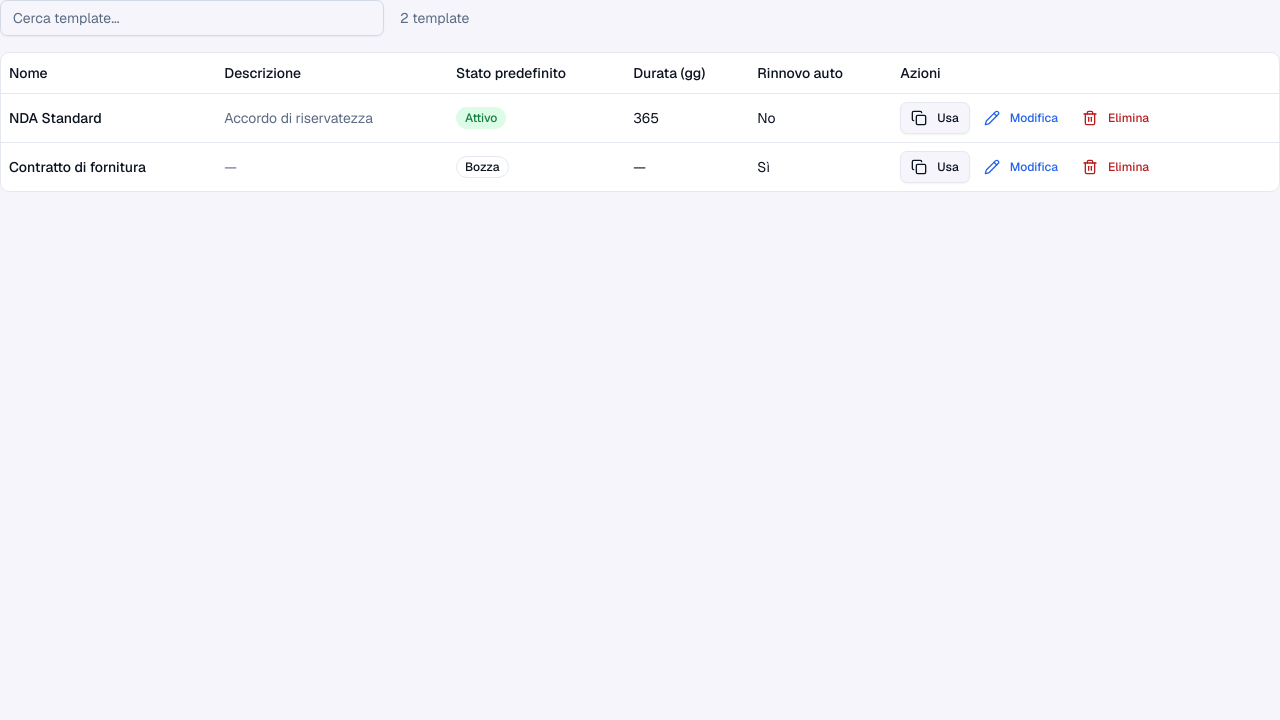
Test: ContractTemplateTable › opens delete confirmation dialog when Elimina is clicked
Click the button "Elimina" in the row of "NDA Standard".
click(1116, 118)  # box [1072, 102, 1159, 134]
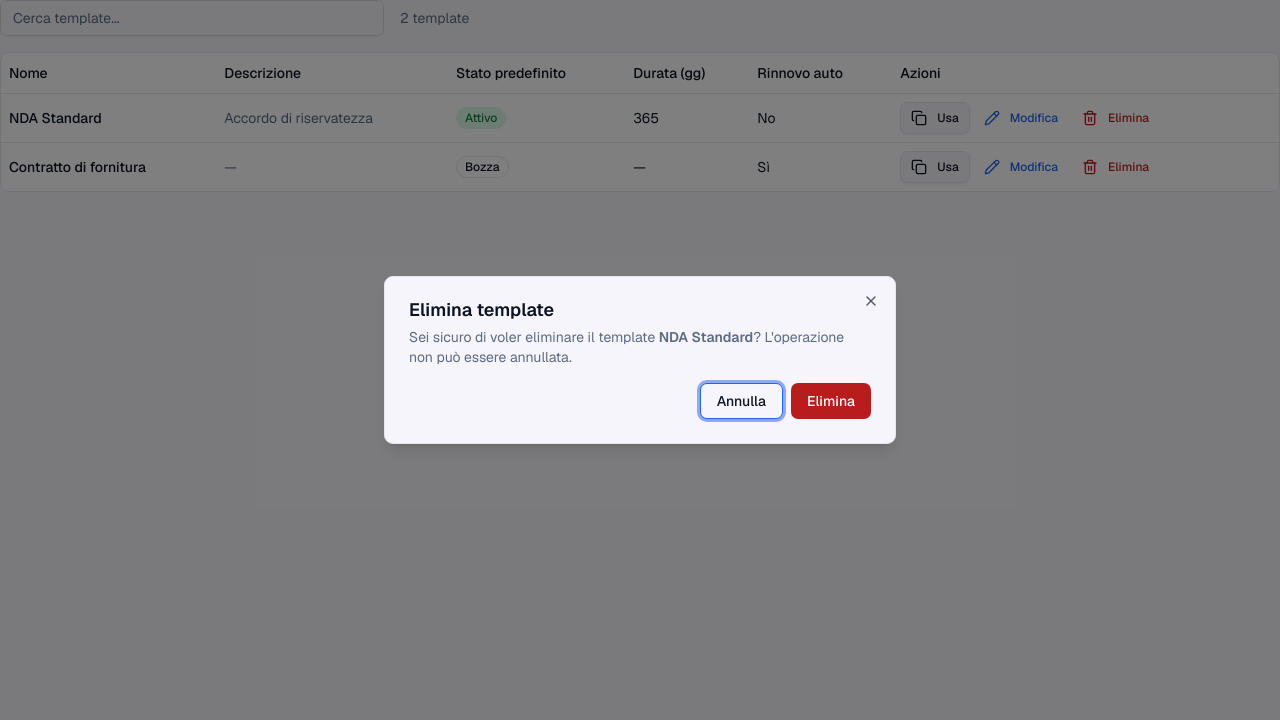
Expected: the dialog is shown, [384, 276, 896, 444]
Expected: the text "Sei sicuro" is shown, [409, 328, 655, 346]
